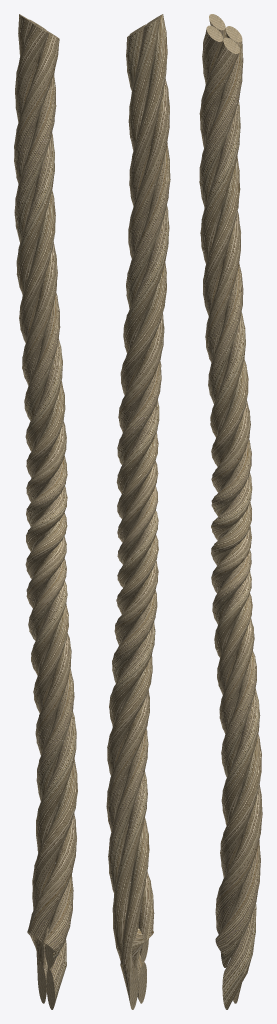
Rendered from rope.fbx.
3 renders of one model, left to right at view 1: azimuth 30°, elevation 25°; view 2: azimuth 150°, elevation 25°; view 3: azimuth 330°, elevation 25°, orthographic.
Parts seen in each view (by area): view 1: pCylinder14; view 2: pCylinder14; view 3: pCylinder14.
Boxes of the visible parts, <box> form: pCylinder14: <box>14,14,77,1009</box>; pCylinder14: <box>106,14,170,1009</box>; pCylinder14: <box>199,14,262,1009</box>.
Size of the model in its own units: 7.89 by 129 by 4.85.
